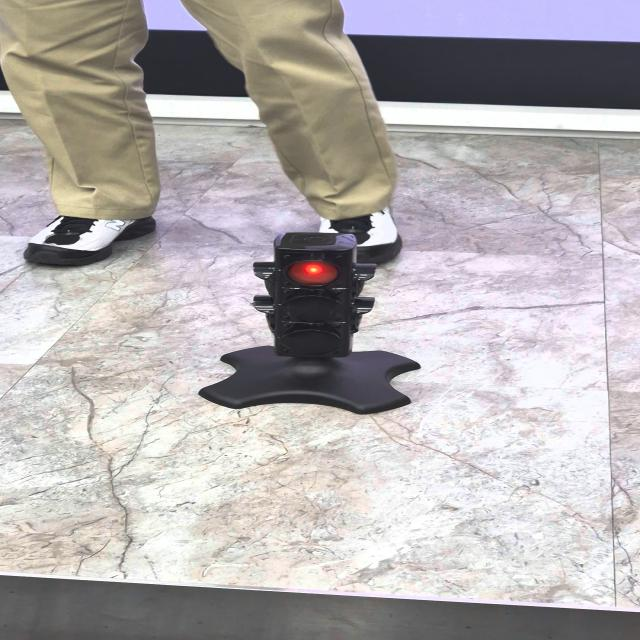red_light: (288, 261, 338, 284)
